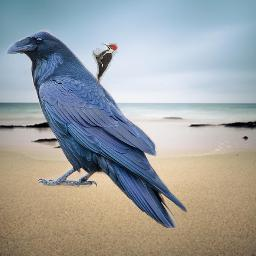Crow: (4, 29, 188, 228)
Woodpecker: (92, 43, 118, 86)
